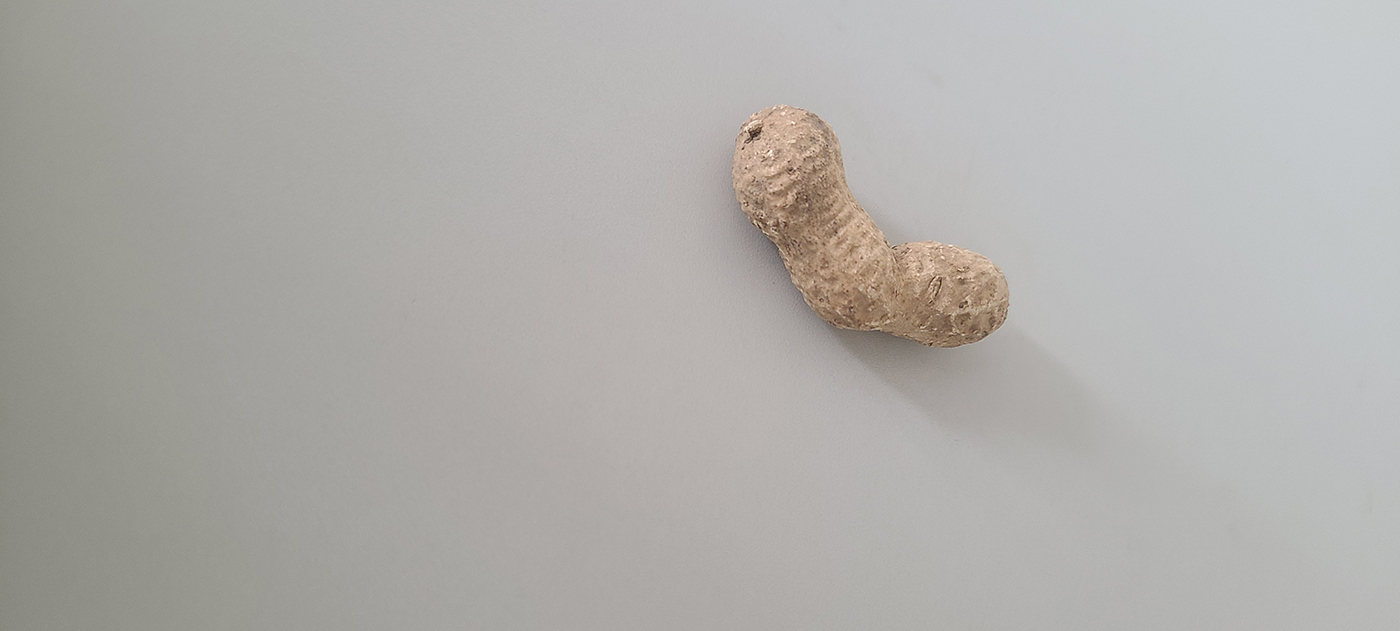h: (728, 98, 1011, 345)
